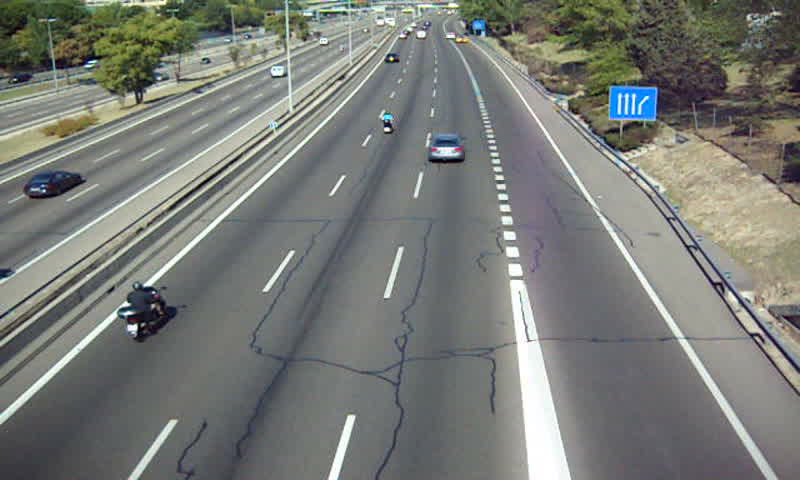car: (427, 135, 464, 161), (384, 52, 399, 65)
motorcycle: (117, 281, 165, 340), (382, 111, 396, 136)
